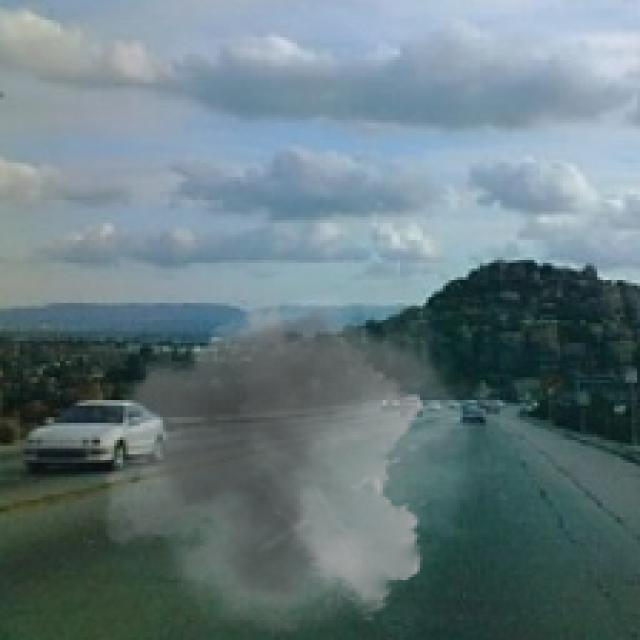smoke: (83, 280, 508, 634)
